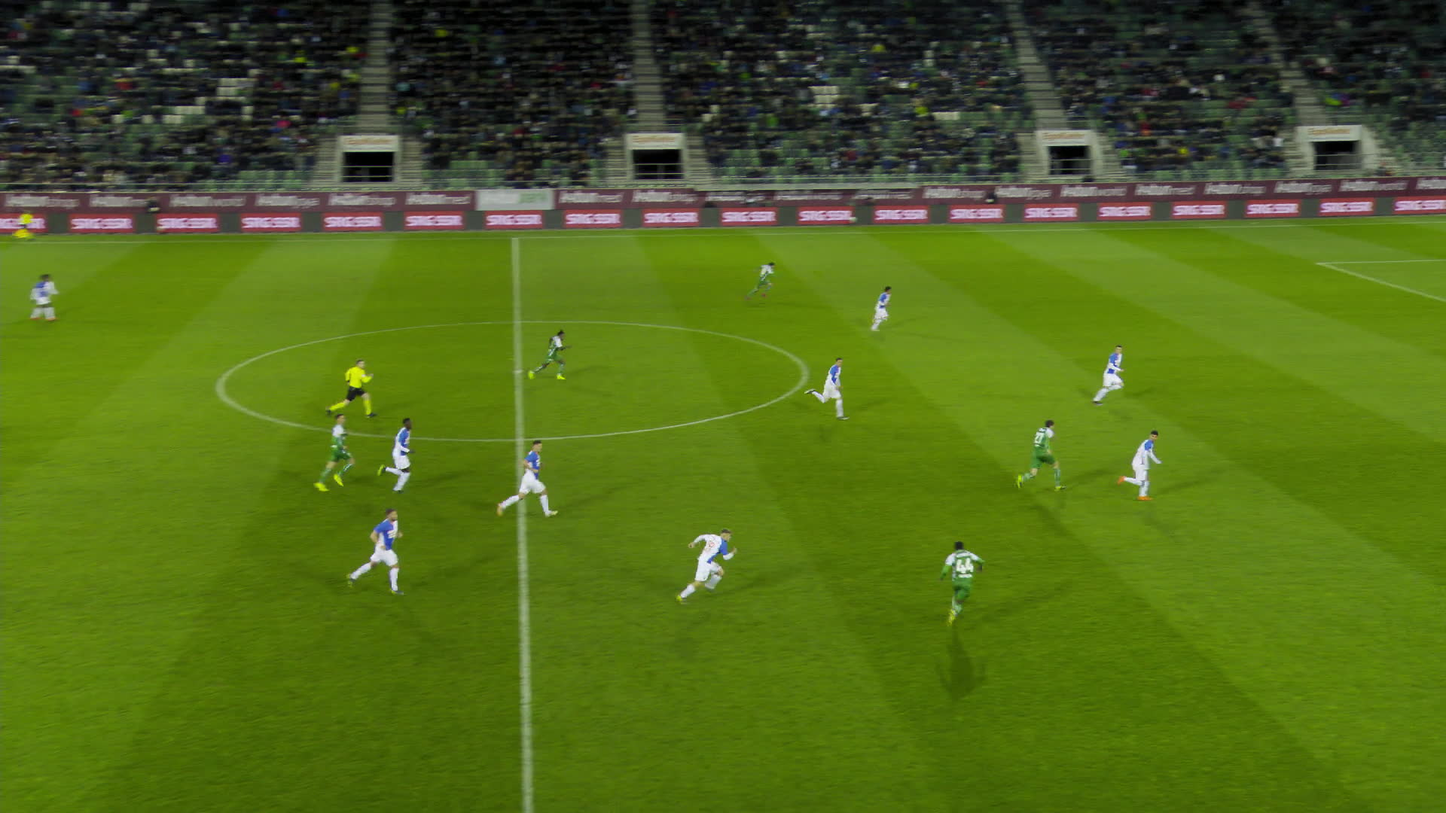ball: (955, 592, 962, 603)
player: (348, 507, 413, 594), (669, 522, 736, 599), (942, 539, 996, 630), (371, 413, 424, 492), (1121, 428, 1170, 500), (507, 441, 550, 522), (1024, 419, 1068, 495), (317, 411, 359, 490), (805, 355, 853, 418), (1089, 343, 1128, 406), (534, 327, 572, 380), (865, 282, 898, 328), (39, 269, 67, 318), (749, 261, 782, 301)
referee: (337, 358, 374, 419), (33, 211, 48, 238)
